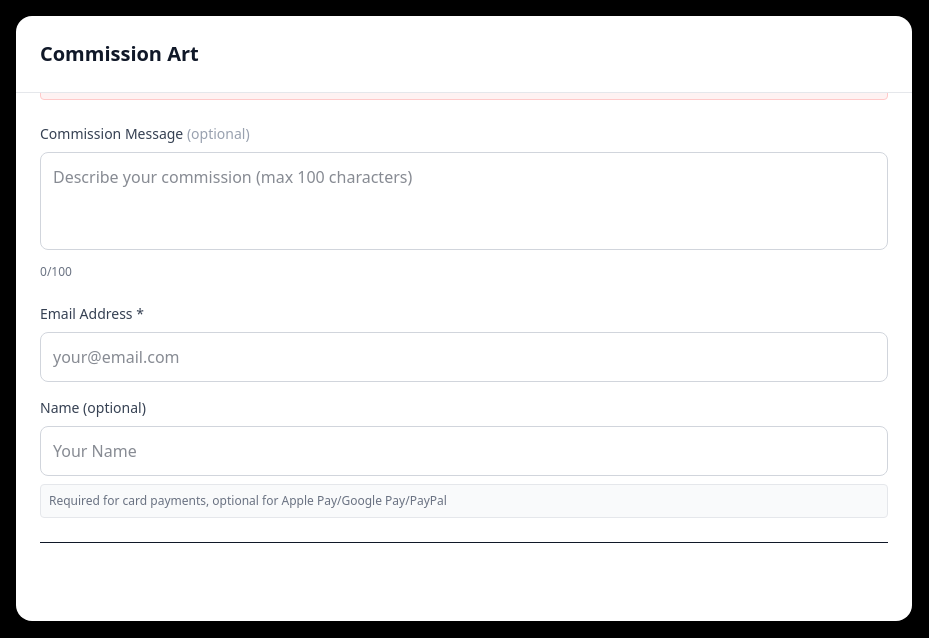
Test: CommissionModal › should handle email validation
The width and height of the screenshot is (929, 638).
(page scrolled)
Step 1. Type "invalid-email" into the field with placeholder "your@email.com" → x=464, y=356, box [40,332,888,382]
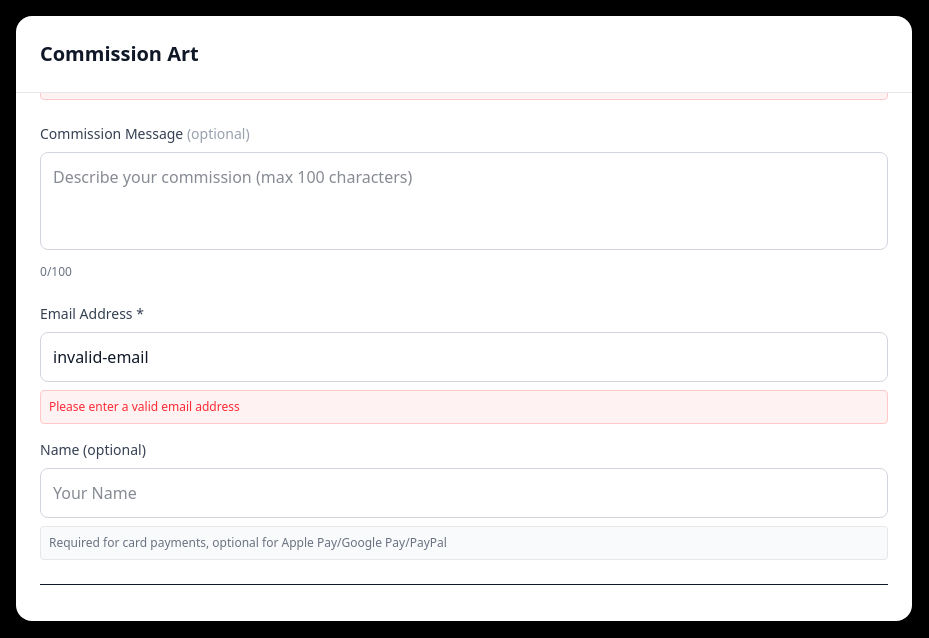
Now the text "Please enter a valid email address" is shown, box [40,390,888,424]
